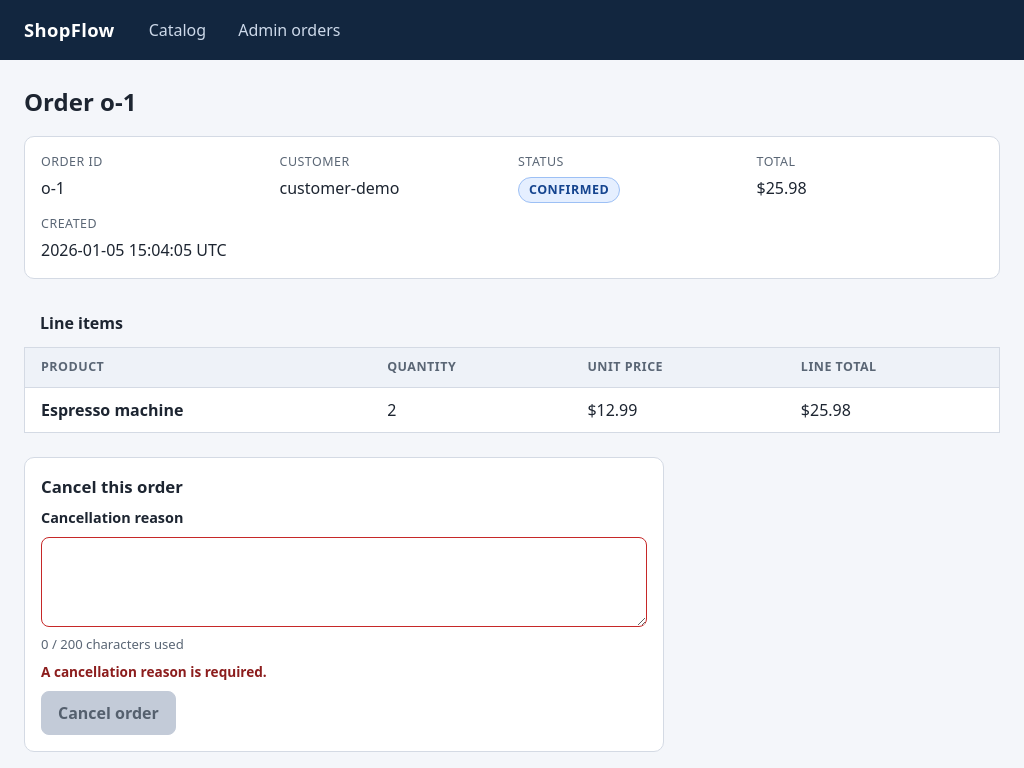
OrderDetailPage › reports that a shipped order cannot be cancelled
Type "Found a better deal" into the text box labelled "Cancellation reason". click: (344, 582)
box: [41,537,647,627]
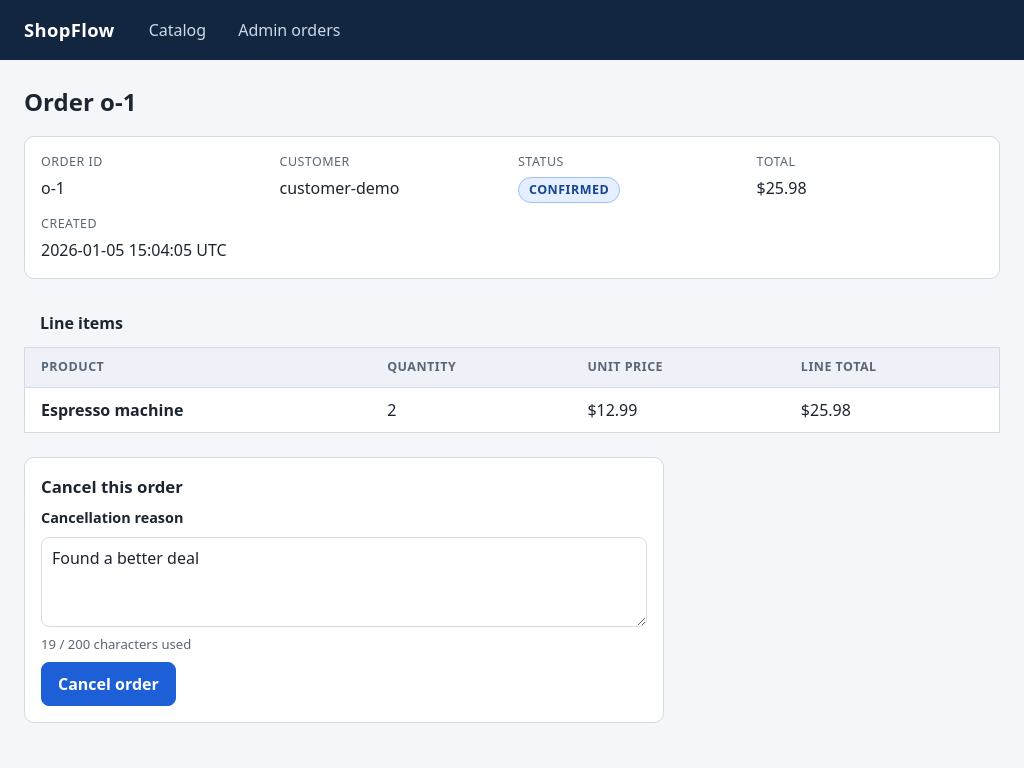
Click the button "Cancel order". click: (108, 684)
box: [41,662,176,706]
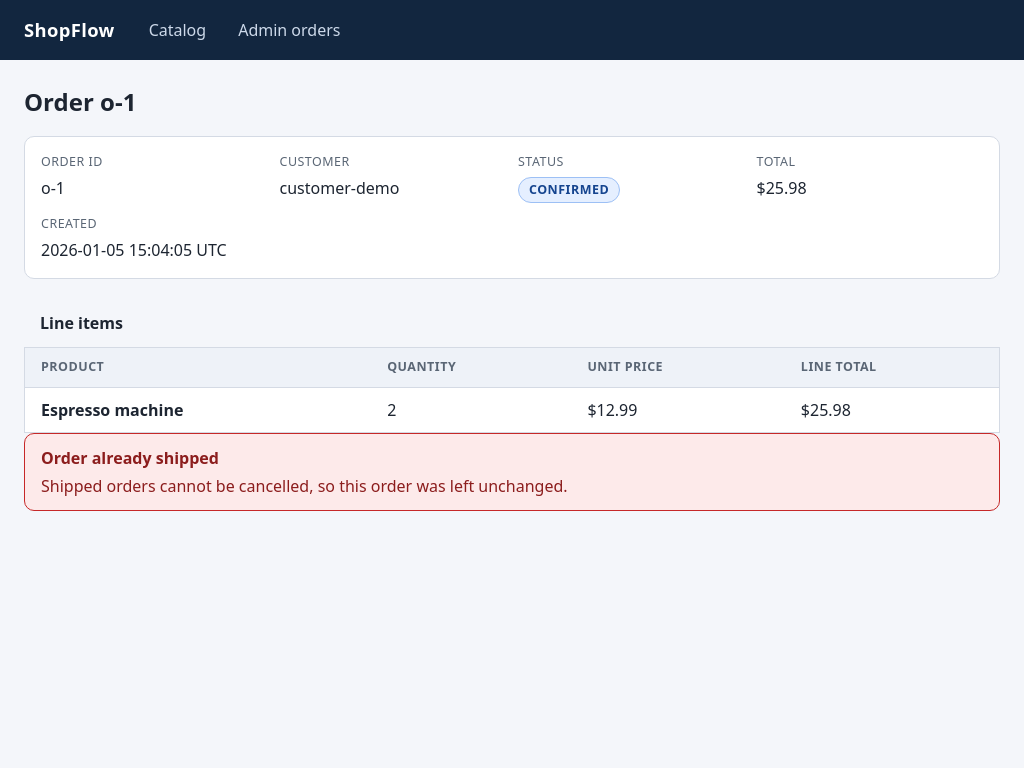
expect the text "Order already shipped" is shown: met, box [41,447,219,469]
expect the text "Shipped orders cannot be cancelled" is shown: met, box [41,475,568,497]
expect the label labelled "Cancellation reason" is gone: met
